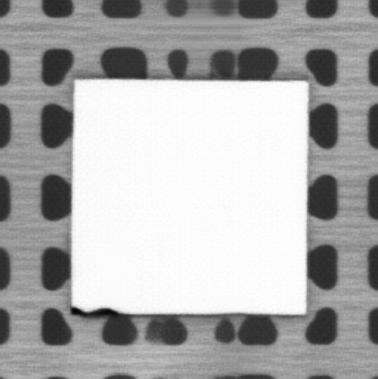DIE_BROKEN: (68, 304, 121, 317)
